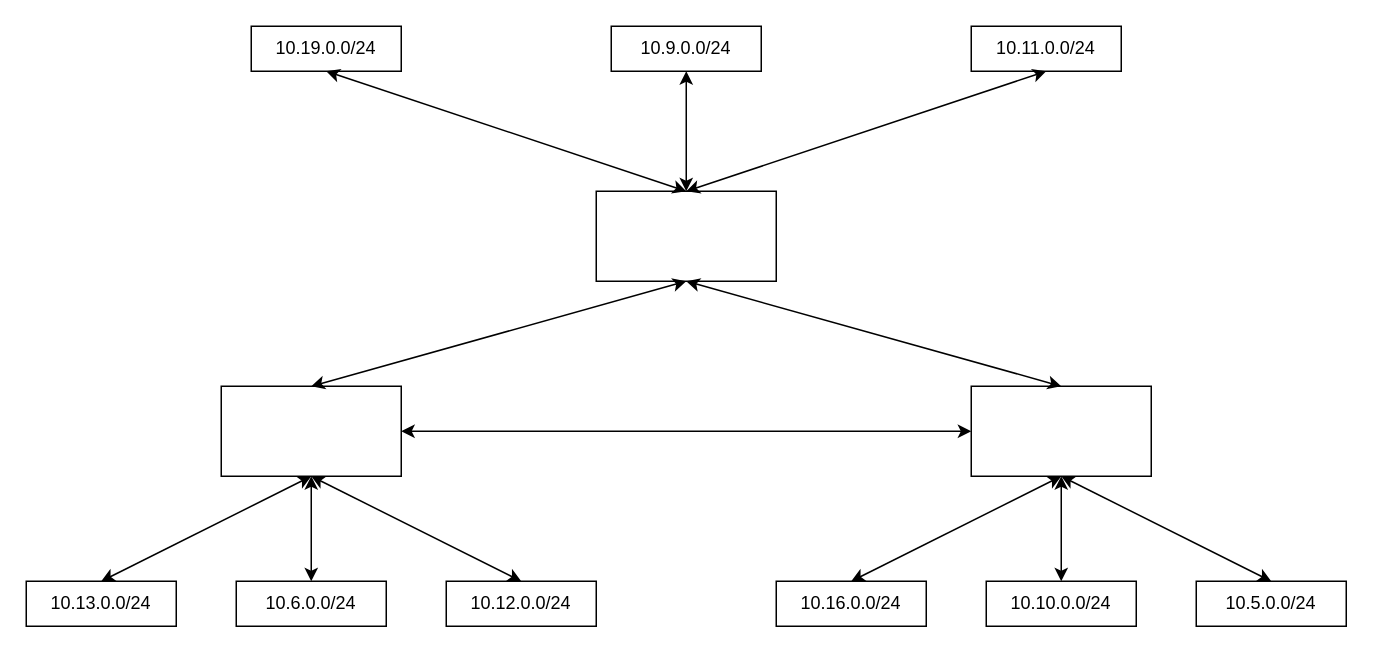
The diagram is 1373 pixels wide and 653 high, and some of its shapes have lost their labels. The shapes that lost their labels are listed below. From the top down, each one's centre as x and y in pixels, then its label:
At point (685, 235): "Router 2 AA:45:92".
At point (310, 430): "Router 1 AA:43:80".
At point (1060, 430): "Router 3 AC:45:70".
